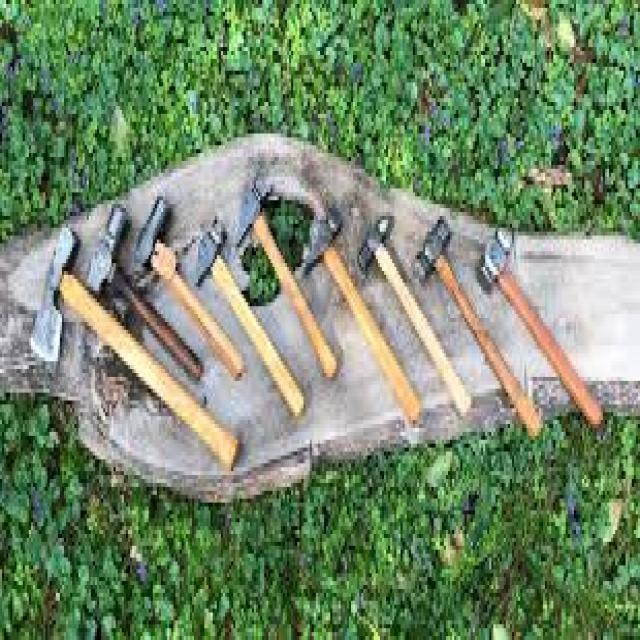hammer: (29, 219, 240, 506), (298, 180, 430, 440), (412, 210, 550, 446), (474, 212, 612, 440), (190, 194, 316, 430), (231, 149, 347, 389), (80, 198, 221, 391), (132, 175, 248, 402), (355, 208, 475, 424)
